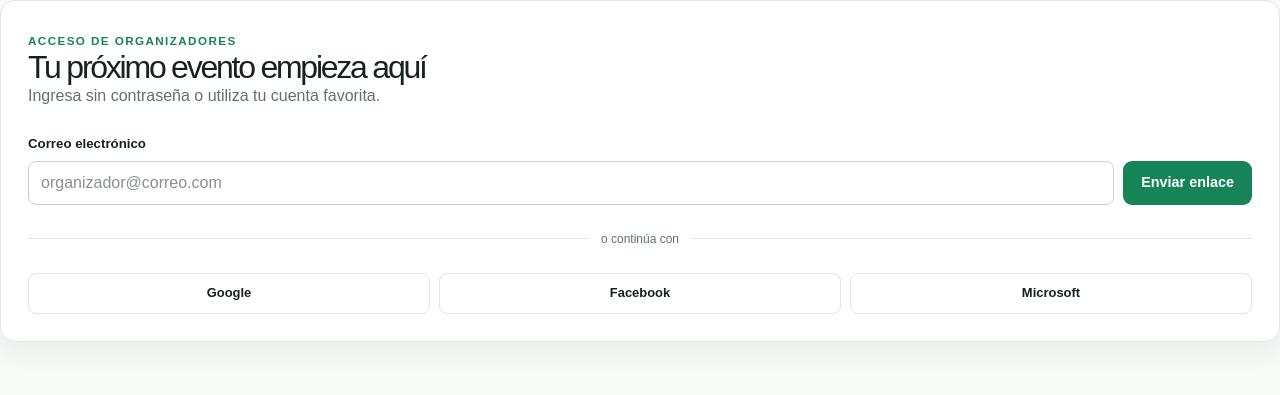
Test: normalizes login email, preserves a safe destination and blocks duplicate submissions
In the field labelled "Correo electrónico": (571, 183) [28, 161, 1114, 205], type " User@Example.COM "
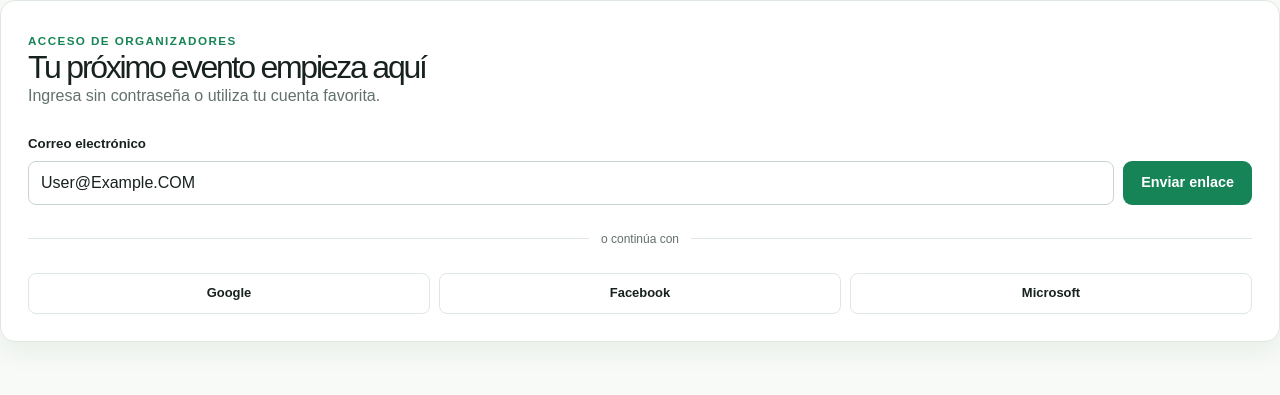
Submit the form labelled "Correo electrónico", box [28, 134, 1252, 205]
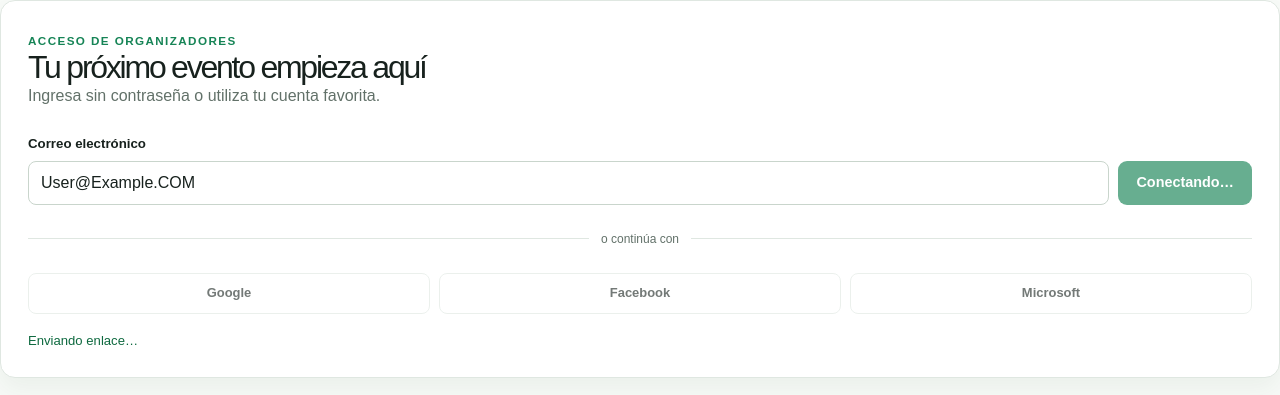
Submit the form labelled "Correo electrónico", box [28, 134, 1252, 205]
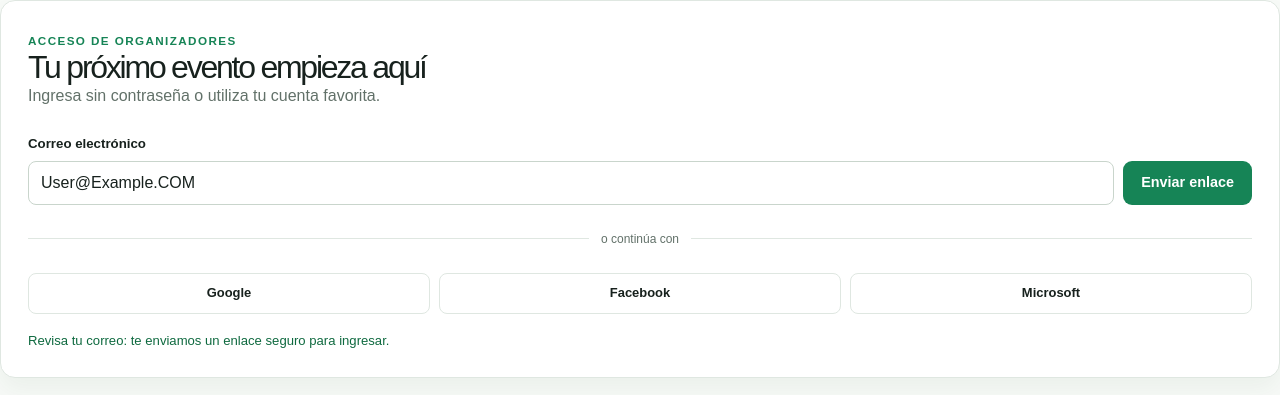
Expected: the text "Revisa tu correo: te enviamos un enlace seguro para ingresar." is shown, [28, 333, 389, 348]
